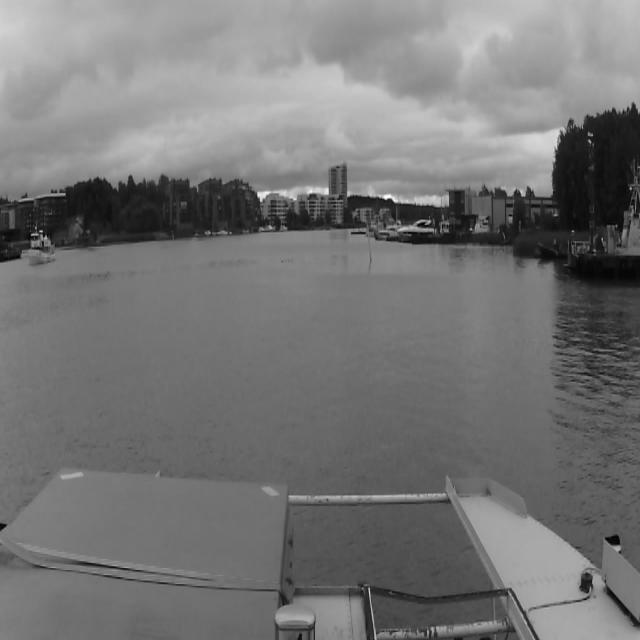buoy: (367, 225, 372, 264)
ship: (22, 229, 56, 263), (397, 219, 437, 240)
